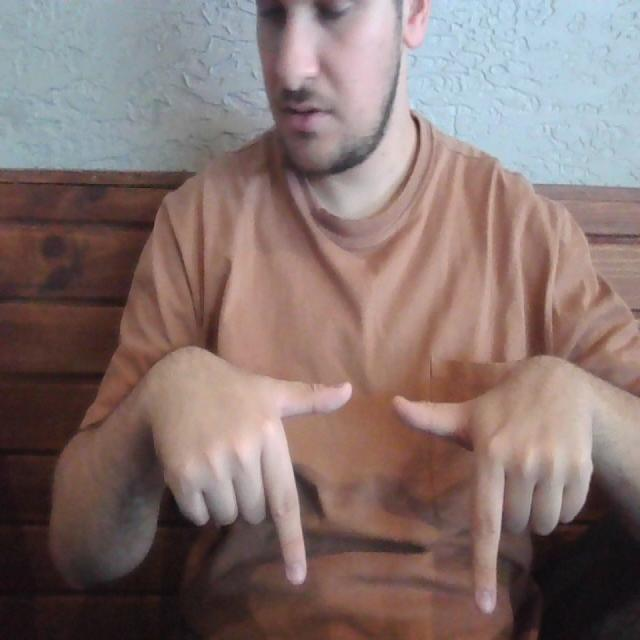Nerede: (259, 371, 509, 620)
